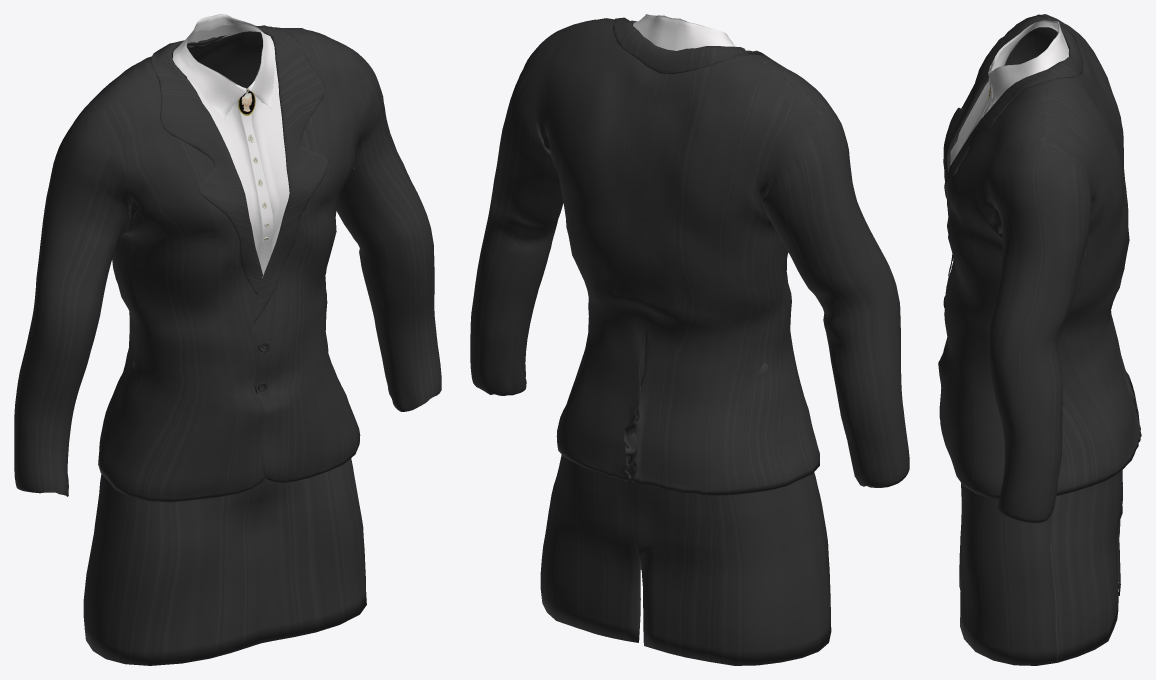
File: toigo-female-suit.glb
3 renders of one model, left to right at view 1: azimuth 30°, elevation 25°; view 2: azimuth 150°, elevation 25°; view 3: azimuth 270°, elevation 25°, orthographic. The views are drawn at different scales.
Visible parts, largest first — view 1: Human.toigo_female_suit; view 2: Human.toigo_female_suit; view 3: Human.toigo_female_suit.
Part boxes in pixels (<box>): Human.toigo_female_suit: <box>14,14,441,665</box>; Human.toigo_female_suit: <box>470,14,909,665</box>; Human.toigo_female_suit: <box>938,14,1141,665</box>.
Size of the model in its own units: 0.7508 by 1.02 by 0.3252.
1 material, 1 textured.
